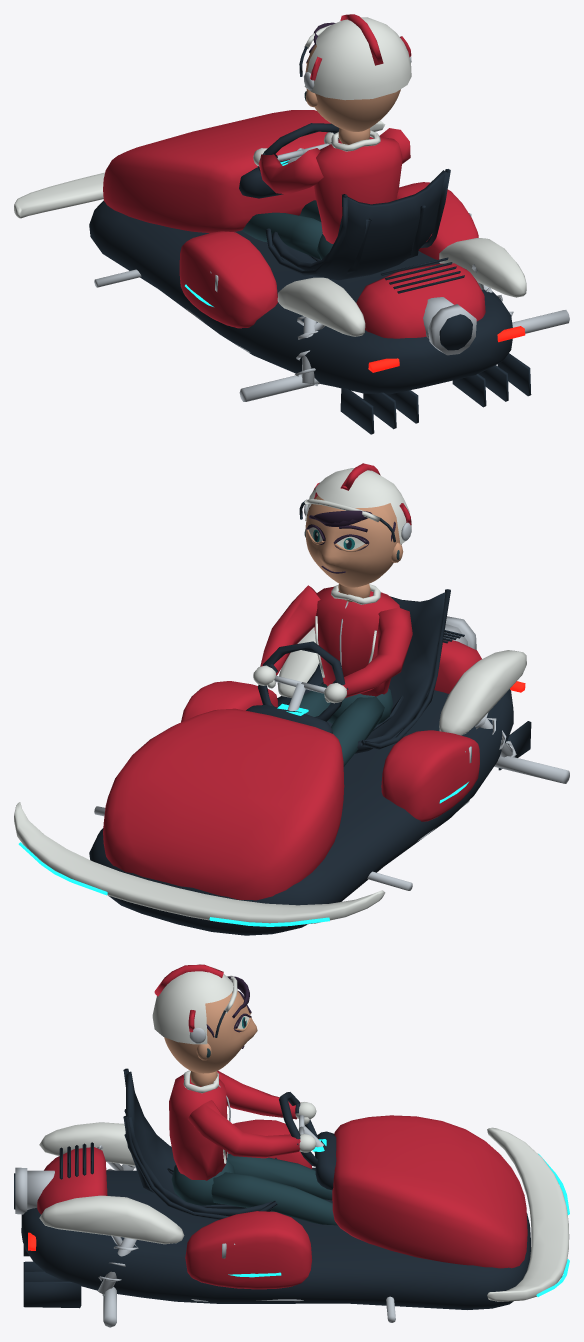
File: kestrel-kart-v2.glb
The picture shows the model from 3 angles, top to bottom: view 1: azimuth 30°, elevation 25°; view 2: azimuth 150°, elevation 25°; view 3: azimuth 270°, elevation 25°; orthographic projection. The views are drawn at different scales.
Visible parts, largest first — view 1: ContinuousLowerHull, SculptedProw, SweptFrontApron, FittedRacingJacket, PodVent-1_0, AsterContinuousFace, EarInset-1, ContinuousSleeve-1, TailLightHousing-1; view 2: SculptedProw, ContinuousLowerHull, SweptFrontApron, AsterContinuousFace, FittedRacingJacket, PodVent-1_0, EarInset-1, ContinuousSleeve-1, ContinuousSleeve1, InstrumentScreen, EyeSocket-1; view 3: SculptedProw, ContinuousLowerHull, SweptFrontApron, EarInset-1, FittedRacingJacket, AsterContinuousFace, PodVent-1_0, ContinuousSleeve1, ContinuousSleeve-1, InstrumentScreen, EyeSocket-1.
Boxes of the visible parts, x1,y1,x2,y2 form: ContinuousLowerHull: [89, 46, 531, 434]; SculptedProw: [103, 14, 485, 338]; SweptFrontApron: [14, 17, 526, 336]; FittedRacingJacket: [314, 137, 402, 243]; PodVent-1_0: [94, 56, 569, 401]; AsterContinuousFace: [305, 44, 400, 144]; EarInset-1: [241, 91, 333, 259]; ContinuousSleeve-1: [258, 148, 323, 194]; TailLightHousing-1: [368, 326, 525, 372]; SculptedProw: [103, 463, 481, 900]; ContinuousLowerHull: [89, 499, 531, 935]; SweptFrontApron: [14, 468, 526, 924]; AsterContinuousFace: [305, 495, 403, 601]; FittedRacingJacket: [314, 586, 399, 696]; PodVent-1_0: [94, 504, 569, 890]; EarInset-1: [299, 529, 399, 766]; ContinuousSleeve-1: [342, 607, 412, 697]; ContinuousSleeve1: [260, 585, 320, 675]; InstrumentScreen: [18, 703, 468, 926]; EyeSocket-1: [306, 507, 395, 573]; SculptedProw: [37, 964, 527, 1289]; ContinuousLowerHull: [14, 1010, 530, 1309]; SweptFrontApron: [39, 964, 569, 1301]; EarInset-1: [171, 1048, 337, 1225]; FittedRacingJacket: [169, 1074, 227, 1180]; AsterContinuousFace: [164, 991, 257, 1086]; PodVent-1_0: [15, 1027, 395, 1327]; ContinuousSleeve1: [188, 1100, 300, 1158]; ContinuousSleeve-1: [217, 1071, 297, 1119]; InstrumentScreen: [228, 1139, 569, 1296]; EyeSocket-1: [206, 976, 251, 1048].
Size of the model in its own units: 1.63 by 1.41 by 2.31.
